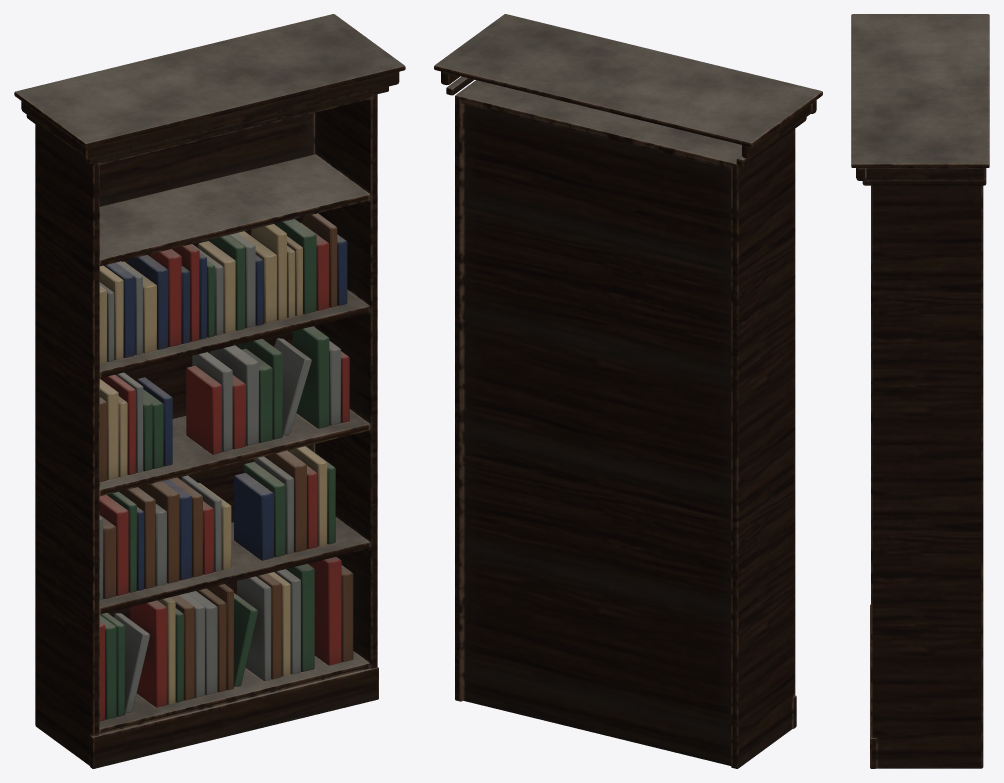
Rendered from bookshelf.glb.
The picture shows the model from 3 angles, left to right: view 1: azimuth 30°, elevation 25°; view 2: azimuth 150°, elevation 25°; view 3: azimuth 270°, elevation 25°; orthographic projection. The views are drawn at different scales.
Parts seen in each view (by area): view 1: bookshelf; view 2: bookshelf; view 3: bookshelf.
Boxes of the visible parts, bbox=[...] form: bookshelf: bbox=[14, 14, 405, 768]; bookshelf: bbox=[434, 14, 822, 768]; bookshelf: bbox=[851, 14, 989, 768].
Size of the model in its own units: 1.08 by 2.05 by 0.4199.
Materials: 1 (1 with a texture image).
